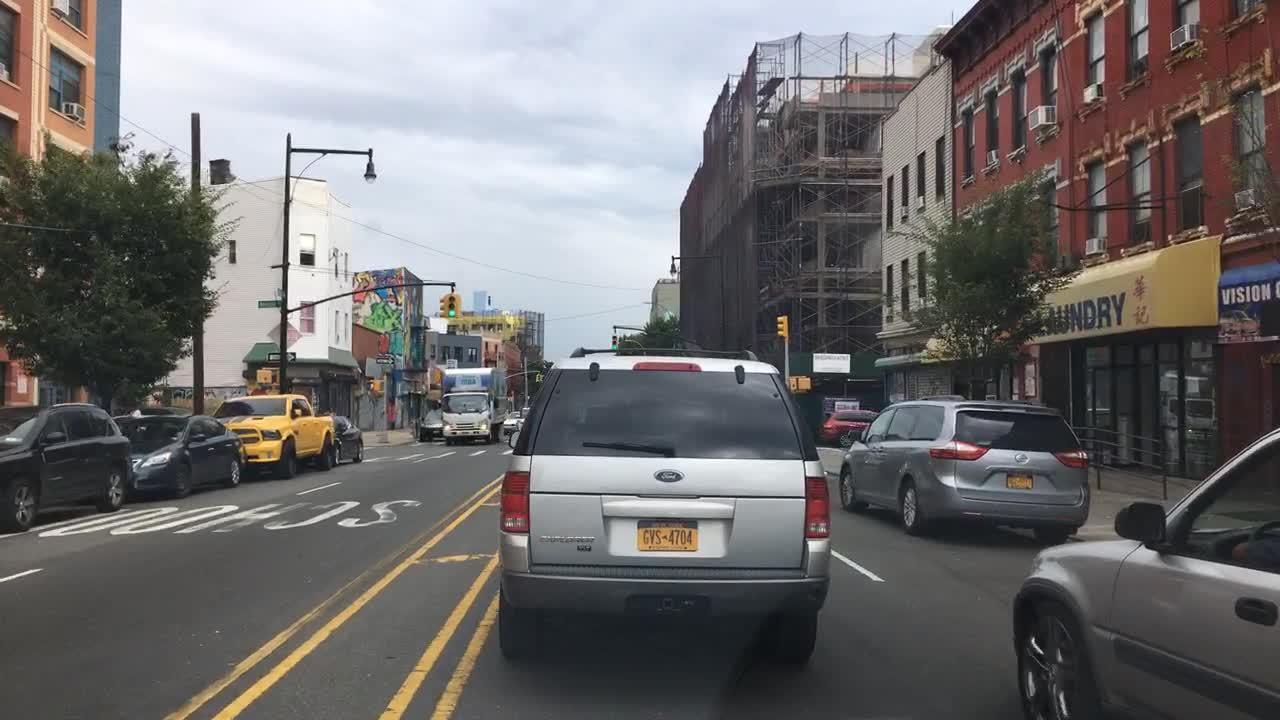ford: (654, 466, 684, 488)
